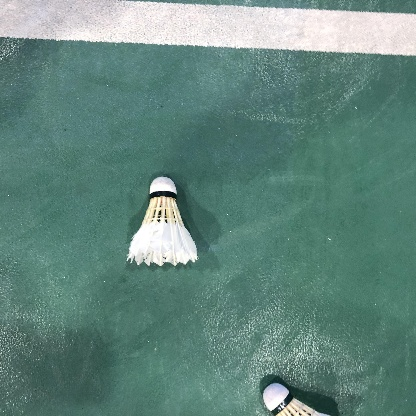ball_single: (126, 177, 197, 266), (263, 383, 332, 416)
